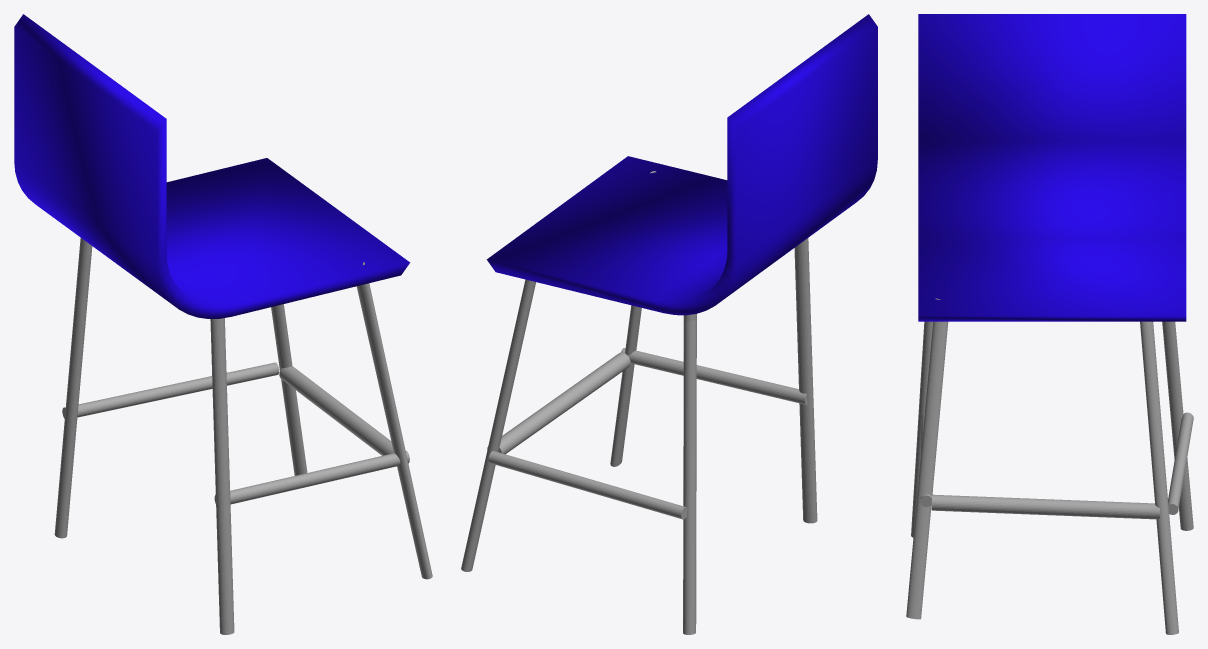
File: Mensa-Stuhl.glb
The picture shows the model from 3 angles, left to right: view 1: azimuth 30°, elevation 25°; view 2: azimuth 150°, elevation 25°; view 3: azimuth 270°, elevation 25°; orthographic projection. The views are drawn at different scales.
Parts seen in each view (by area): view 1: Hochstuhl; view 2: Hochstuhl; view 3: Hochstuhl.
Boxes of the visible parts, bbox=[...] form: Hochstuhl: bbox=[14, 14, 432, 634]; Hochstuhl: bbox=[461, 14, 877, 634]; Hochstuhl: bbox=[906, 14, 1193, 634].
Bounding box in the file's own units: 2.3 × 4.09 × 2.14.
